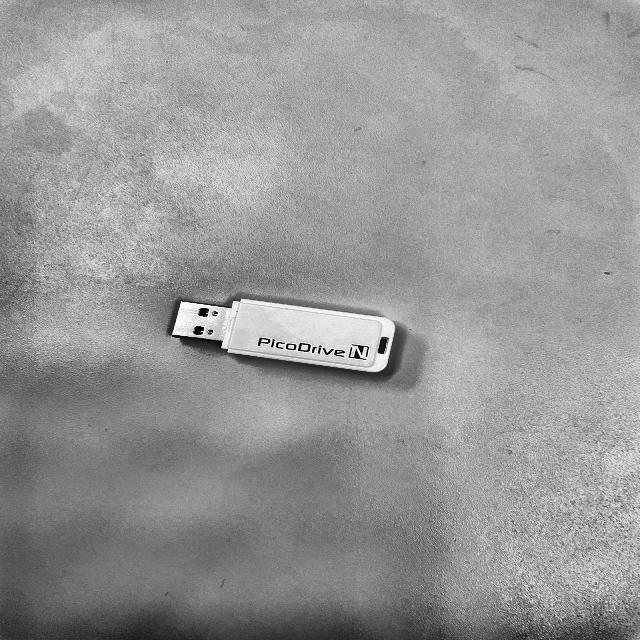Mug: (173, 295, 397, 377)
